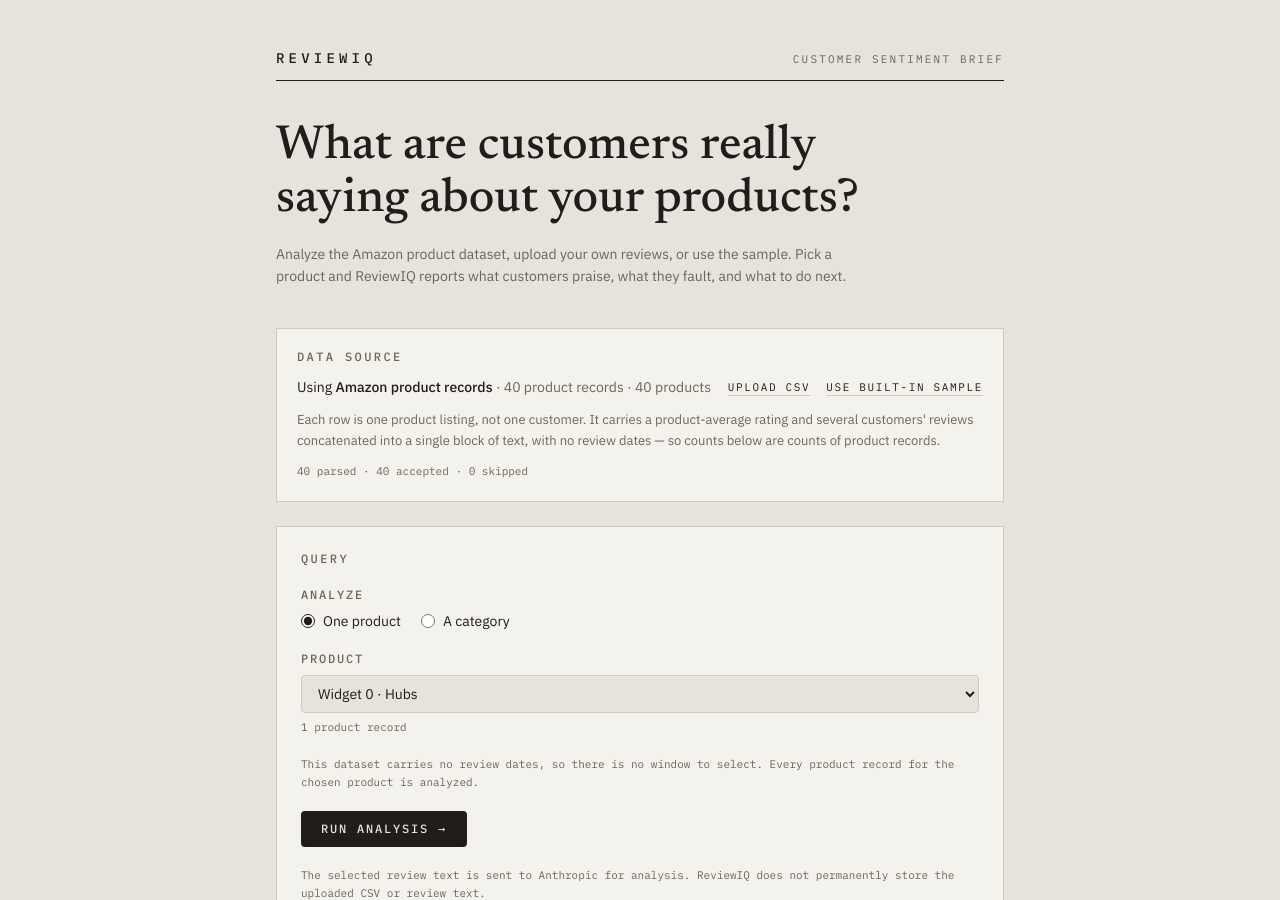
Scenario: progress panel › shows row progress and a cancel action while a Claude run is in flight
Click the radio button labelled "A category" at (428, 621), box left=421, top=614, right=435, bottom=628
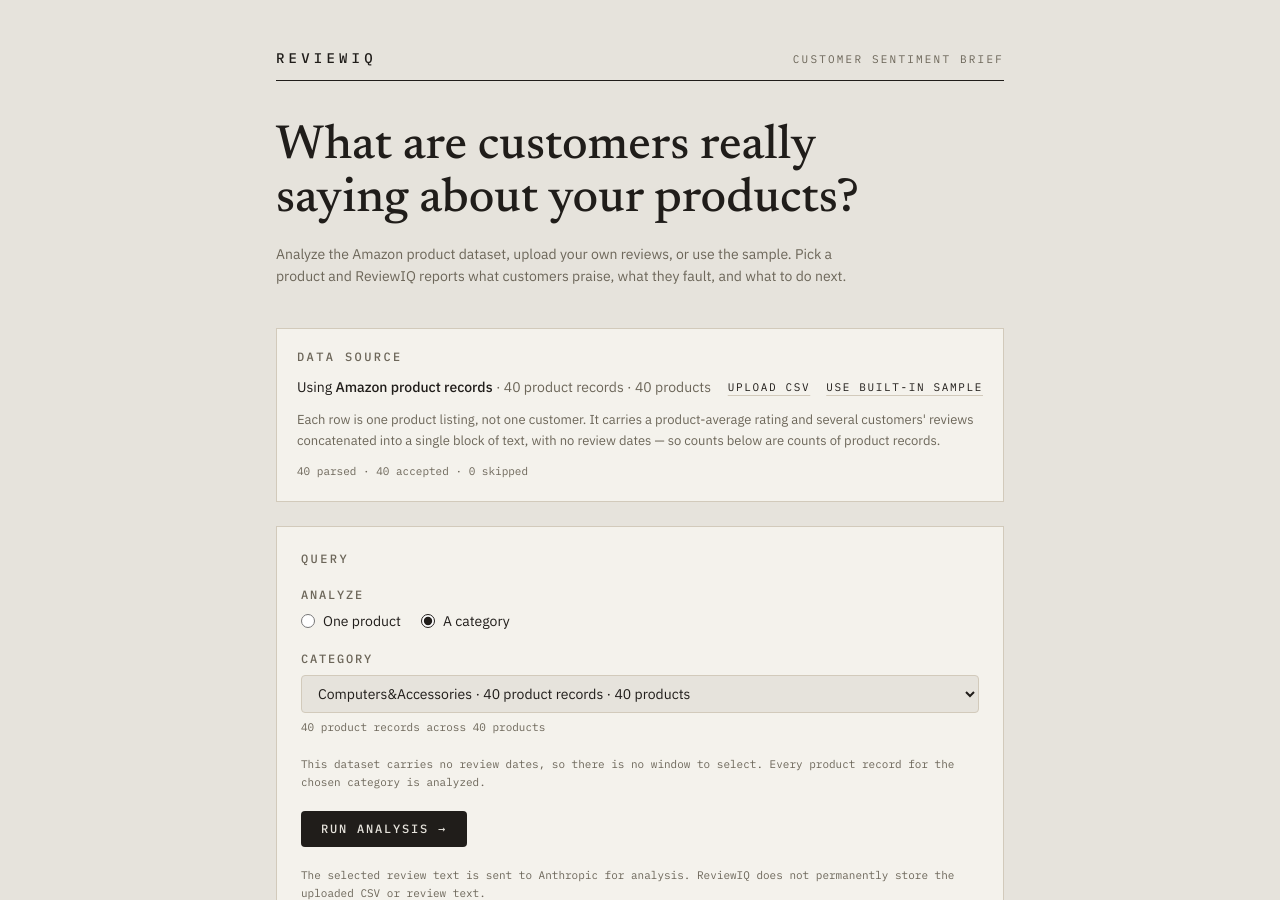
Click the submit button at (384, 830), box left=301, top=812, right=467, bottom=848
(page scrolled)
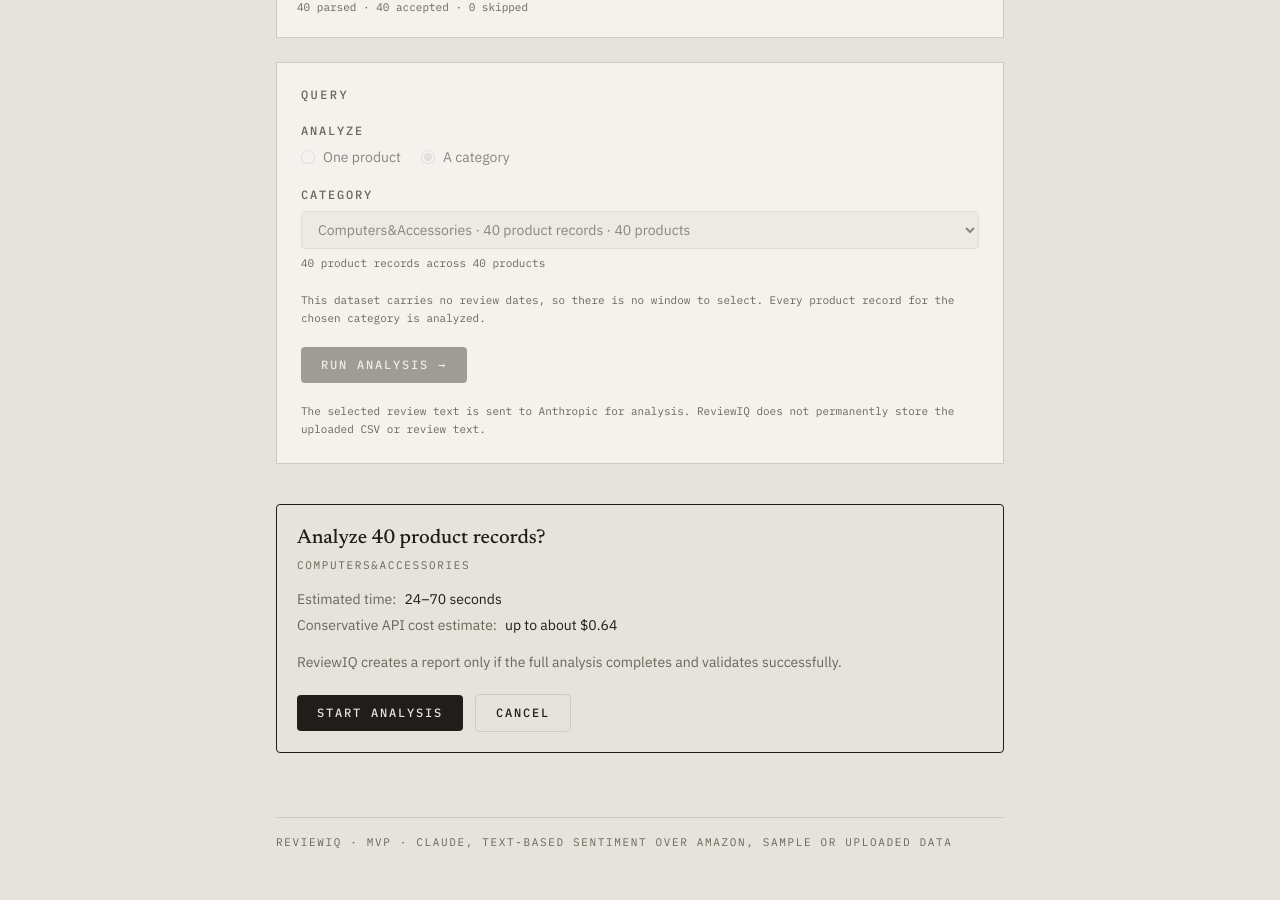
Check: the dialog is shown, box left=276, top=504, right=1004, bottom=753
Click the button "Start analysis" at (380, 713), box left=297, top=695, right=463, bottom=731
(page scrolled)
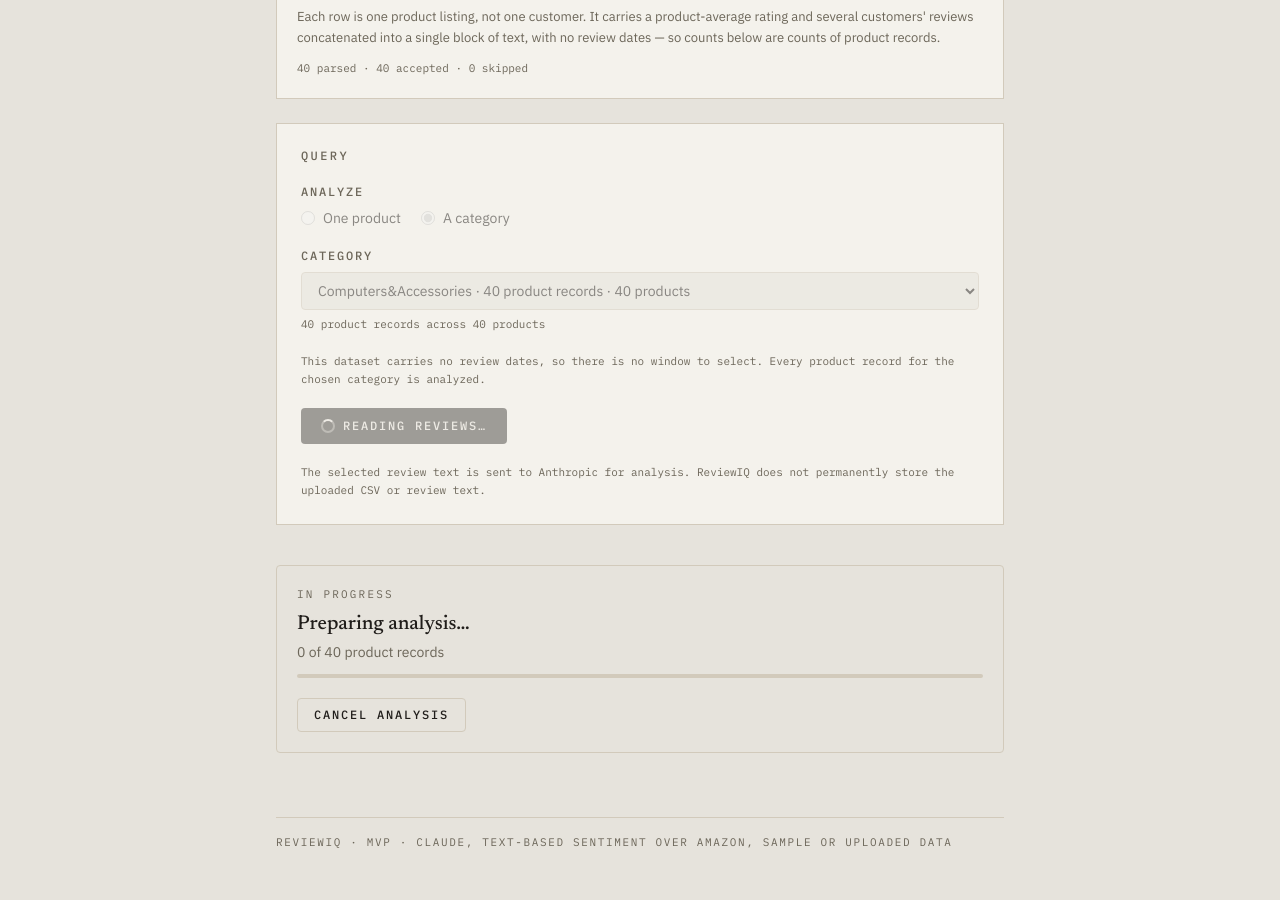
Check: the text "In progress" is shown, box left=297, top=587, right=394, bottom=601
Check: the button "Cancel analysis" is shown, box left=297, top=698, right=466, bottom=732
Check: the heading "Preparing analysis…" is shown, box left=297, top=614, right=470, bottom=634
